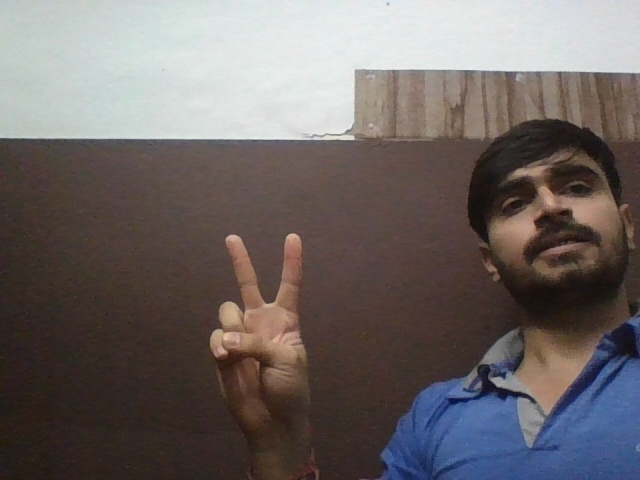V: (200, 226, 330, 429)
